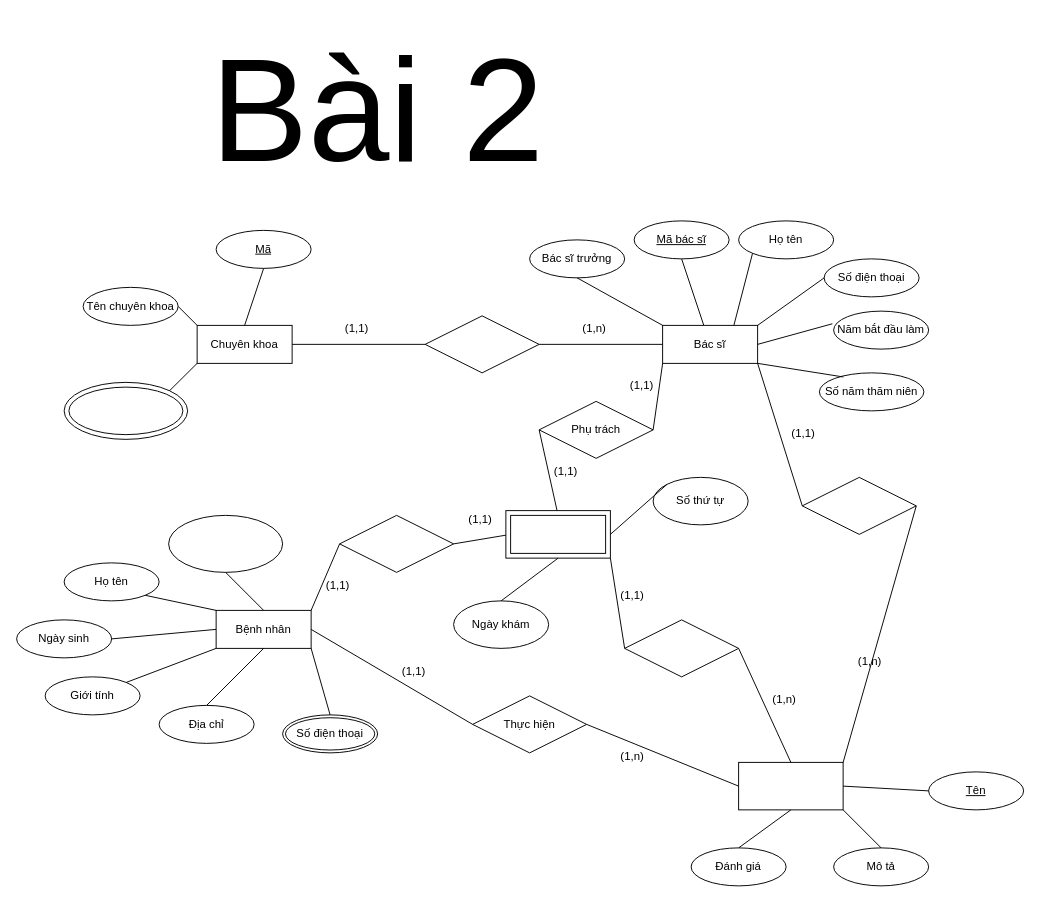
The diagram is 1040 pixels wide and 903 high, and some of its shapes have lost their labels. Here are the shapes that lost their labels. From the top down, the centre of each, then its label:
At [481,344]: "Làm việc".
At [125,410]: "Danh sách các bệnh".
At [858,505]: "Yêu cầu".
At [225,543]: "Mã hồ sơ bệnh nhân".
At [396,543]: "Được khám".
At [558,533]: "Khám".
At [681,648]: "Thuộc".
At [790,785]: "Dịch vụ xét nghiệm".
